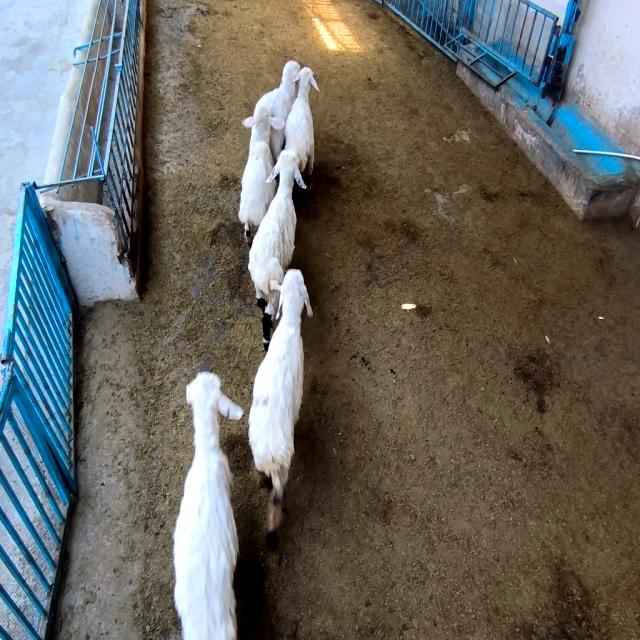sheep: (174, 372, 242, 638), (249, 270, 312, 541), (249, 150, 304, 351), (239, 102, 280, 242), (285, 67, 319, 189)
